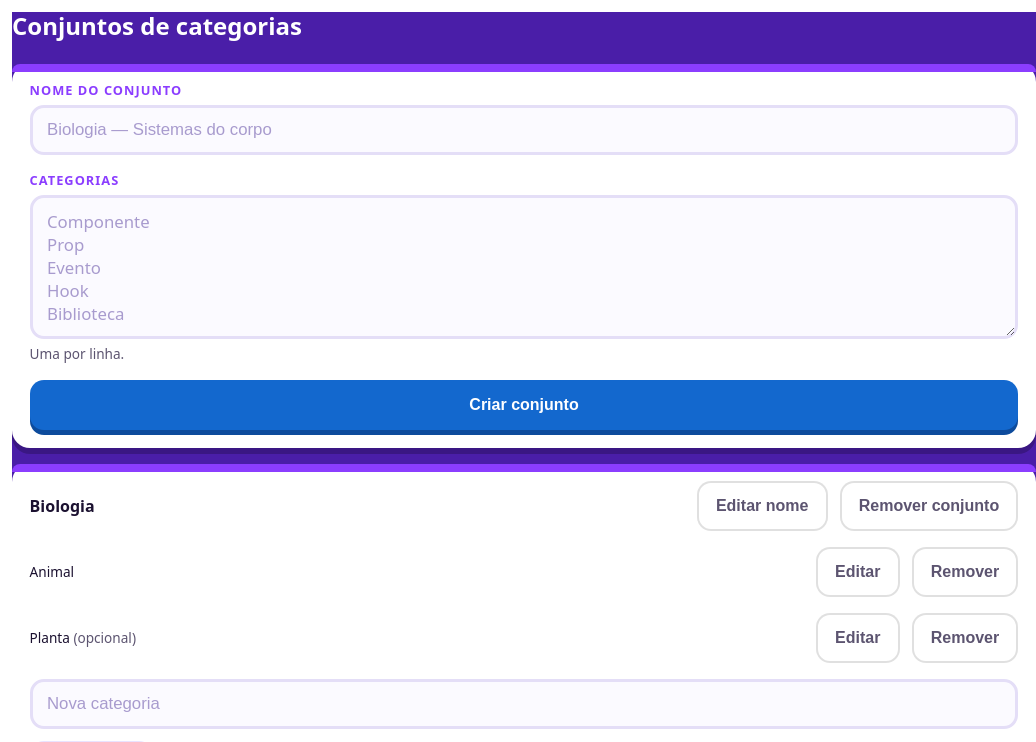
Test: CategorySetsPanel › marks optional categories and supports editing a set's name
Check: the text "(opcional)" is shown, box left=70, top=628, right=136, bottom=648
Click the button "Editar nome".
click(762, 506)  # box left=697, top=481, right=828, bottom=531
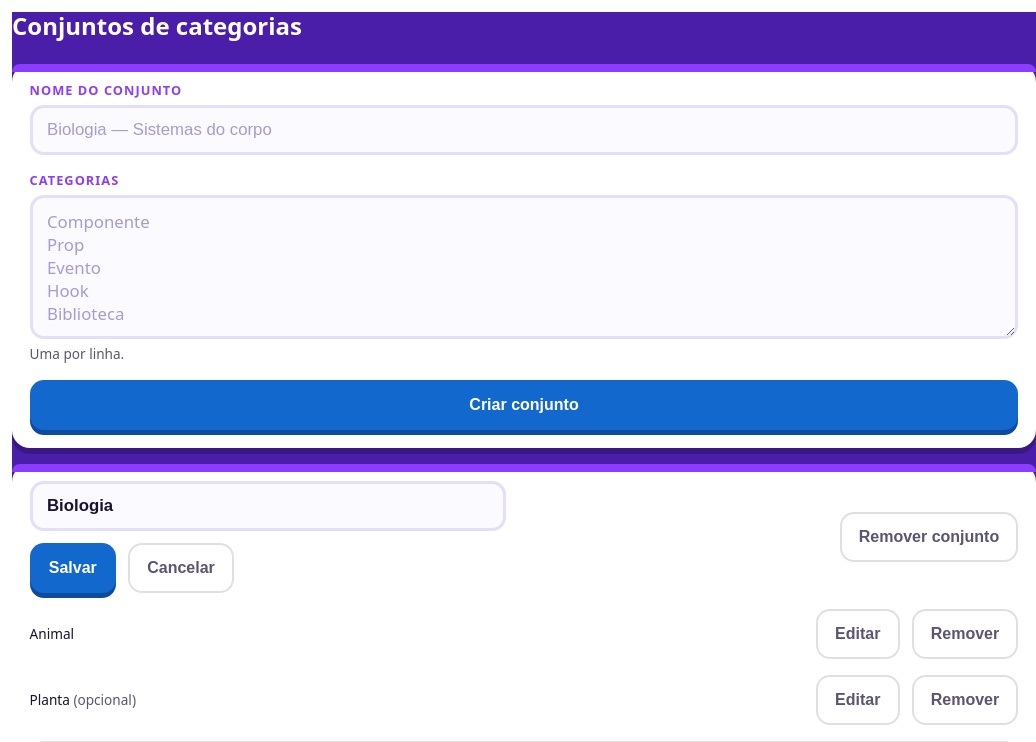
Replace the text in the field showing "Biologia" with "  Biologia II  " at [268, 506], box left=30, top=481, right=506, bottom=531
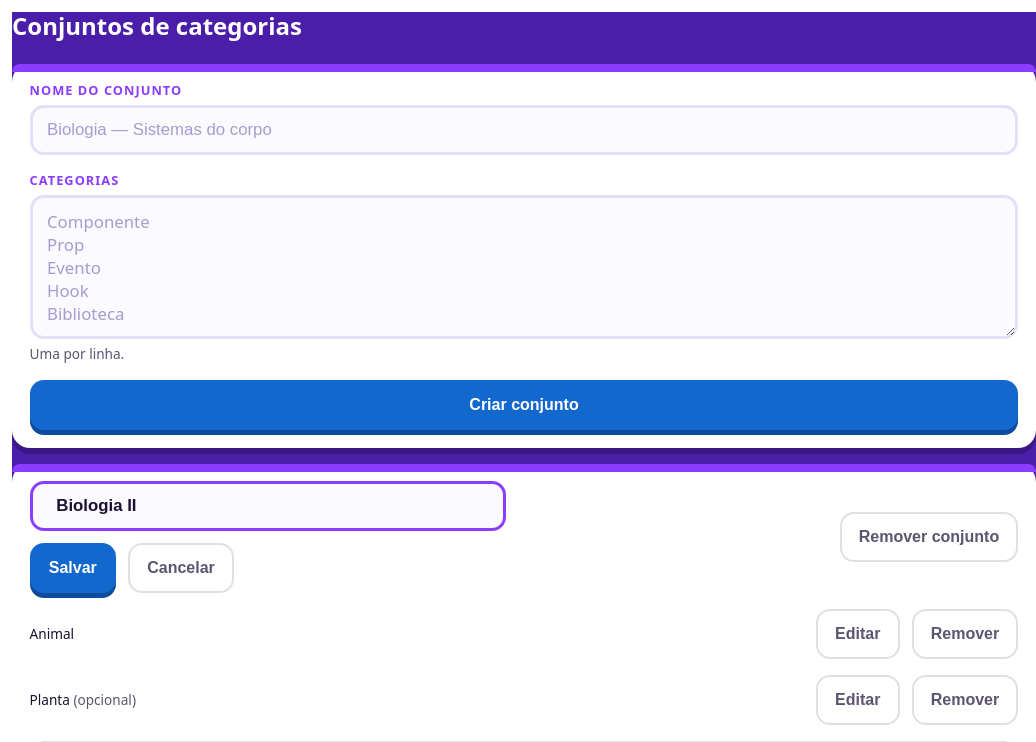
Click the button "Salvar".
click(73, 568)  # box left=30, top=543, right=116, bottom=593
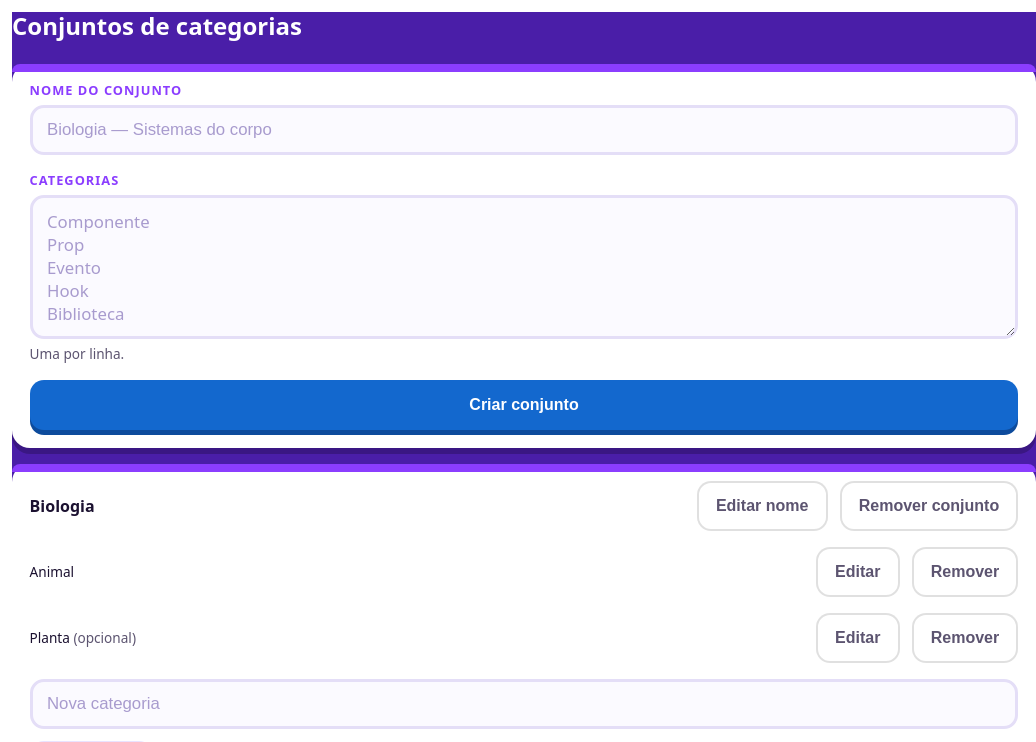
Check: the text "Biologia" is shown, box left=30, top=495, right=95, bottom=518
